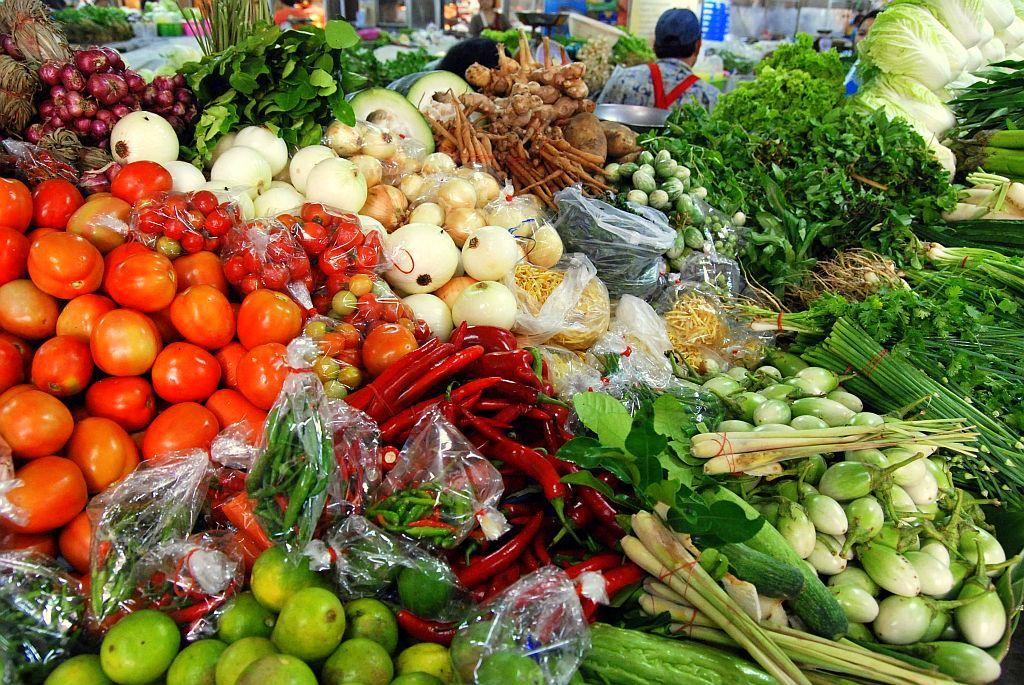chilies: (392, 283, 612, 548)
lemon: (53, 550, 517, 685)
onion: (8, 8, 246, 158)
spinch: (654, 65, 927, 275)
tomato: (0, 155, 374, 536)
